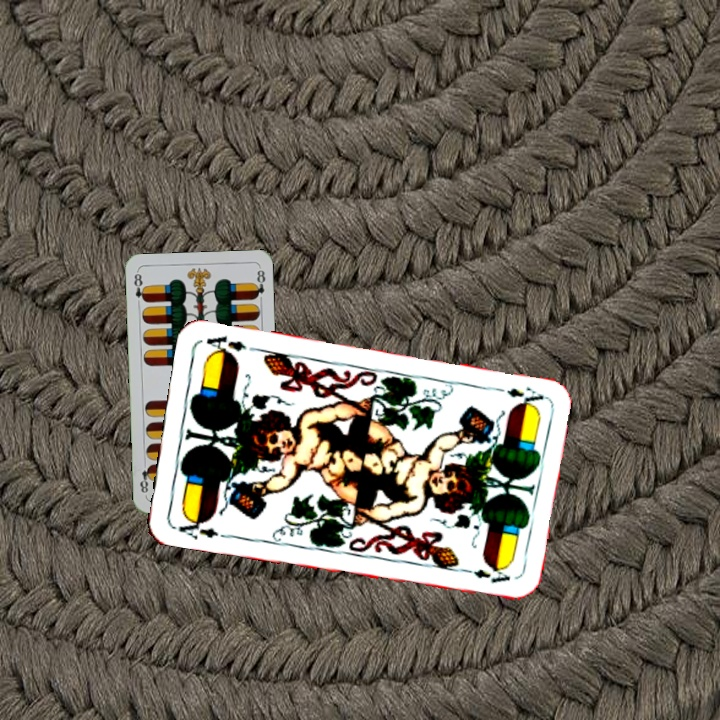E8: (130, 269, 149, 304)
EA: (171, 512, 230, 542), (487, 383, 546, 408)
